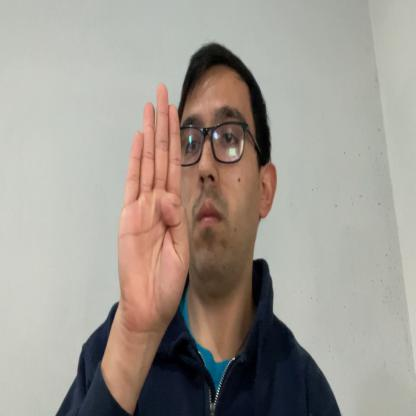B: (117, 82, 191, 331)
